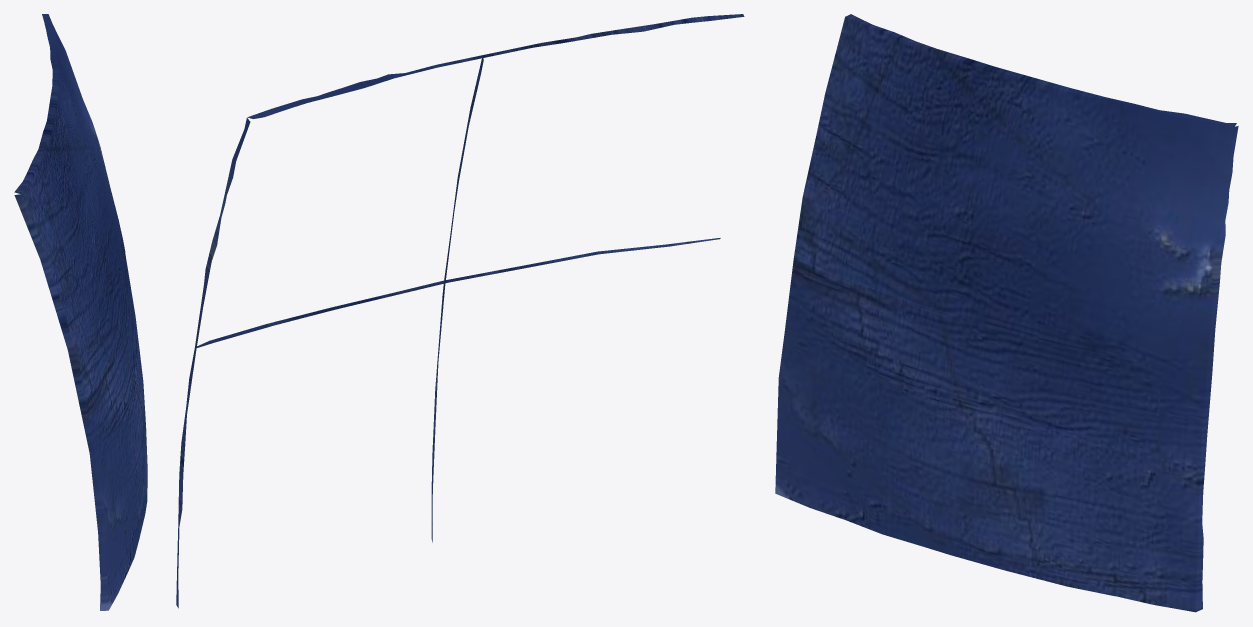
3 renders of one model, left to right at view 1: azimuth 30°, elevation 25°; view 2: azimuth 150°, elevation 25°; view 3: azimuth 270°, elevation 25°, orthographic. The views are drawn at different scales.
Bounding box in the file's own units: 1764432 × 2458698 × 2284431.
Materials: 1 (1 with a texture image).
